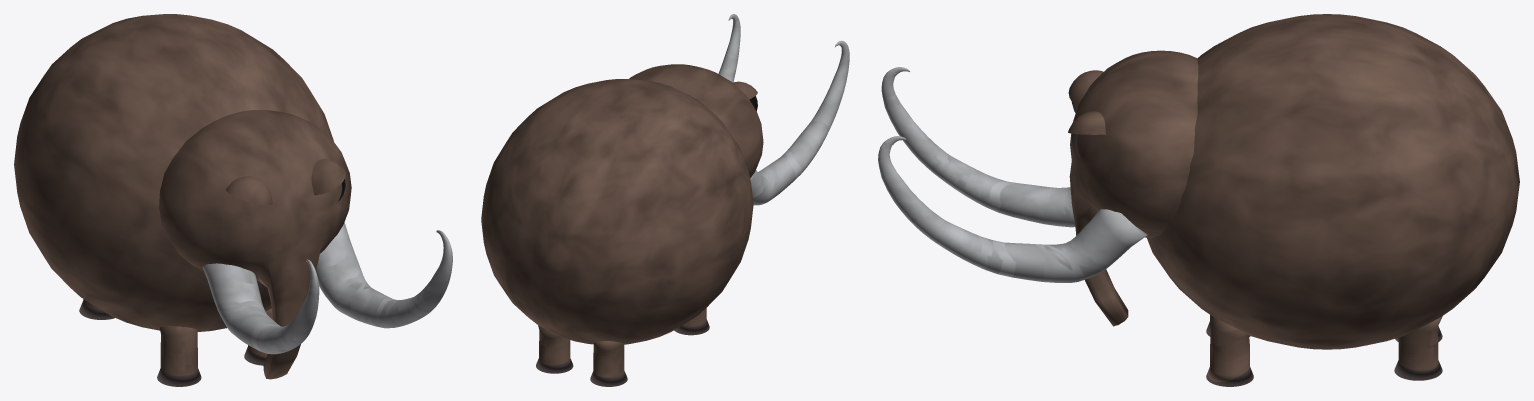
Rendered from Mamute.fbx.
The picture shows the model from 3 angles, left to right: view 1: azimuth 30°, elevation 25°; view 2: azimuth 150°, elevation 25°; view 3: azimuth 270°, elevation 25°; orthographic projection. The views are drawn at different scales.
Visible parts, largest first — view 1: Cylinder; view 2: Cylinder; view 3: Cylinder.
Boxes of the visible parts, left/top/right/bottom form: Cylinder: left=14, top=14, right=452, bottom=386; Cylinder: left=481, top=14, right=849, bottom=386; Cylinder: left=878, top=14, right=1519, bottom=386.
Bounding box in the file's own units: 813 × 866 × 1554.
1 material, 1 textured.
